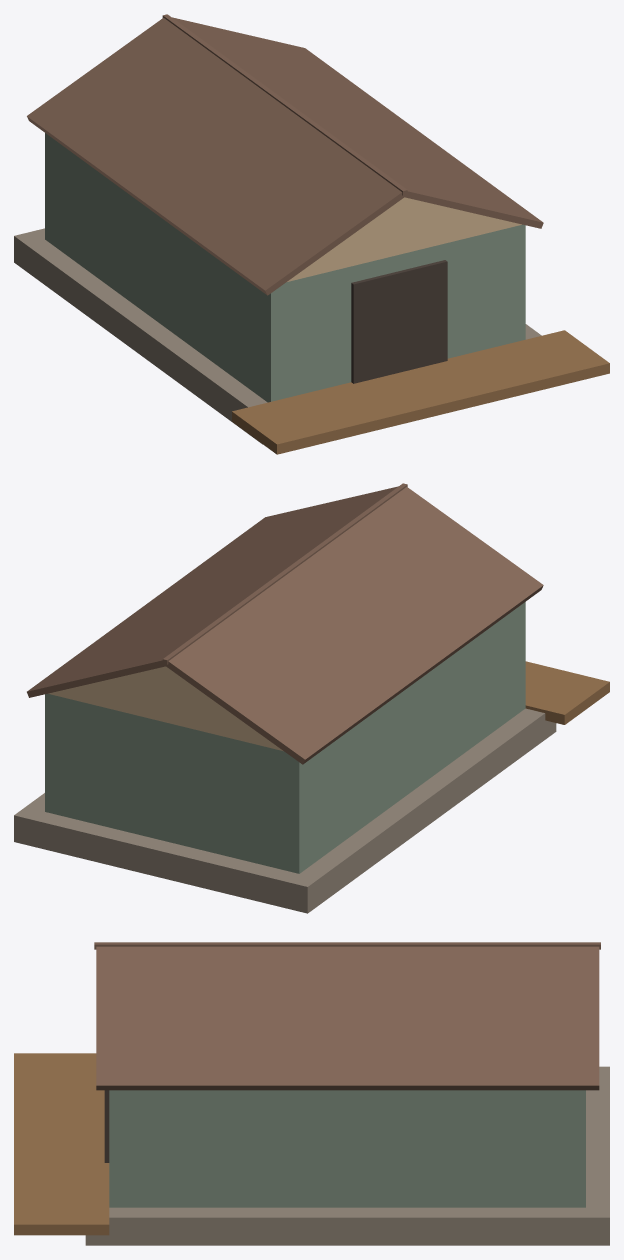
The model's file is arizona-freight-shed_lod1.glb.
3 views of the same model, one above another, from view 1: azimuth 30°, elevation 25°; view 2: azimuth 150°, elevation 25°; view 3: azimuth 270°, elevation 25° (orthographic). The views are drawn at different scales.
Visible parts, largest first — view 1: RF_AZ_Freight_RoofLeft, RF_AZ_Freight_Walls, RF_AZ_Freight_Platform, RF_AZ_Freight_RoofRight, RF_AZ_Freight_Foundation, RF_AZ_Freight_Door, RF_AZ_Freight_Gable, RF_AZ_Freight_Ridge; view 2: RF_AZ_Freight_Walls, RF_AZ_Freight_RoofLeft, RF_AZ_Freight_Foundation, RF_AZ_Freight_RoofRight, RF_AZ_Freight_Gable.001, RF_AZ_Freight_Platform, RF_AZ_Freight_Ridge; view 3: RF_AZ_Freight_RoofRight, RF_AZ_Freight_Walls, RF_AZ_Freight_Foundation, RF_AZ_Freight_Platform, RF_AZ_Freight_Ridge, RF_AZ_Freight_Door.
Boxes of the visible parts, x1,y1,x2,y2 form: RF_AZ_Freight_RoofLeft: (27,17,405,295); RF_AZ_Freight_Walls: (45,133,525,402); RF_AZ_Freight_Platform: (232,330,609,454); RF_AZ_Freight_RoofRight: (172,17,543,228); RF_AZ_Freight_Foundation: (14,228,541,444); RF_AZ_Freight_Door: (351,260,447,383); RF_AZ_Freight_Gable: (287,197,521,281); RF_AZ_Freight_Ridge: (162,14,407,195); RF_AZ_Freight_Walls: (45,602,525,873); RF_AZ_Freight_RoofLeft: (165,487,543,764); RF_AZ_Freight_Foundation: (14,708,556,913); RF_AZ_Freight_RoofRight: (27,486,398,697); RF_AZ_Freight_Gable.001: (48,666,283,751); RF_AZ_Freight_Platform: (525,661,609,724); RF_AZ_Freight_Ridge: (162,483,407,664); RF_AZ_Freight_RoofRight: (96,946,599,1090); RF_AZ_Freight_Walls: (109,1090,585,1207); RF_AZ_Freight_Foundation: (85,1066,609,1245); RF_AZ_Freight_Platform: (14,1053,109,1235); RF_AZ_Freight_Ridge: (94,942,600,949); RF_AZ_Freight_Door: (104,1090,109,1162).
Bounding box in the file's own units: 17 × 10.49 × 25.
